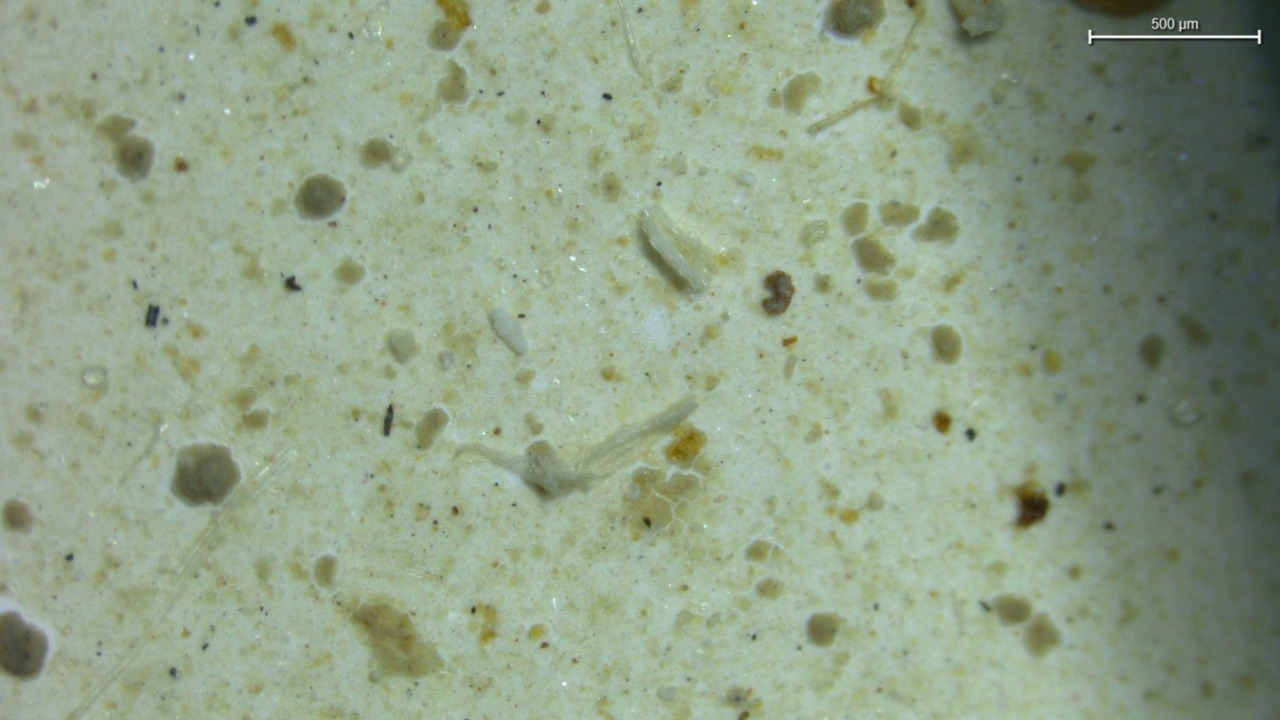microplastic_fragment: (457, 396, 698, 497), (637, 204, 717, 292), (488, 308, 528, 355)
